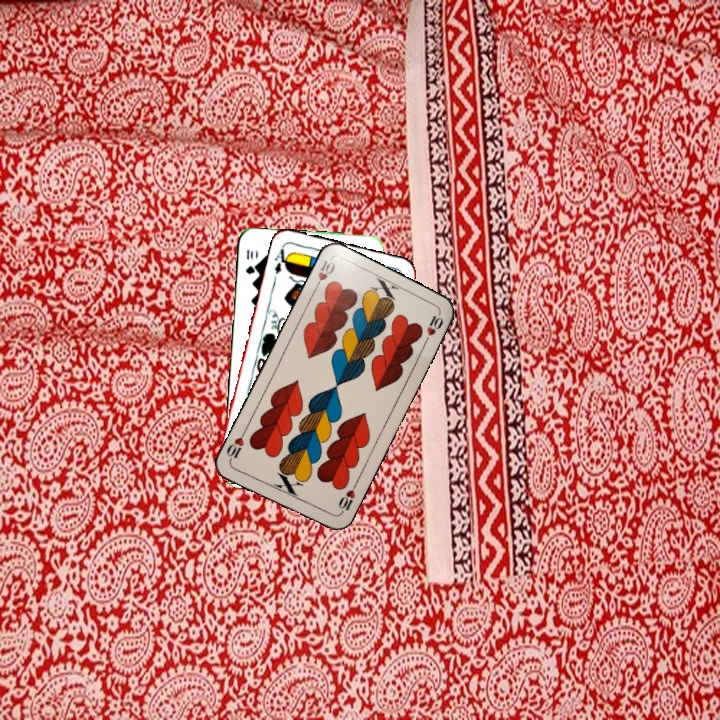EA: (269, 243, 292, 283)
G10: (242, 246, 257, 277)
H10: (309, 255, 338, 293), (334, 479, 359, 517)
